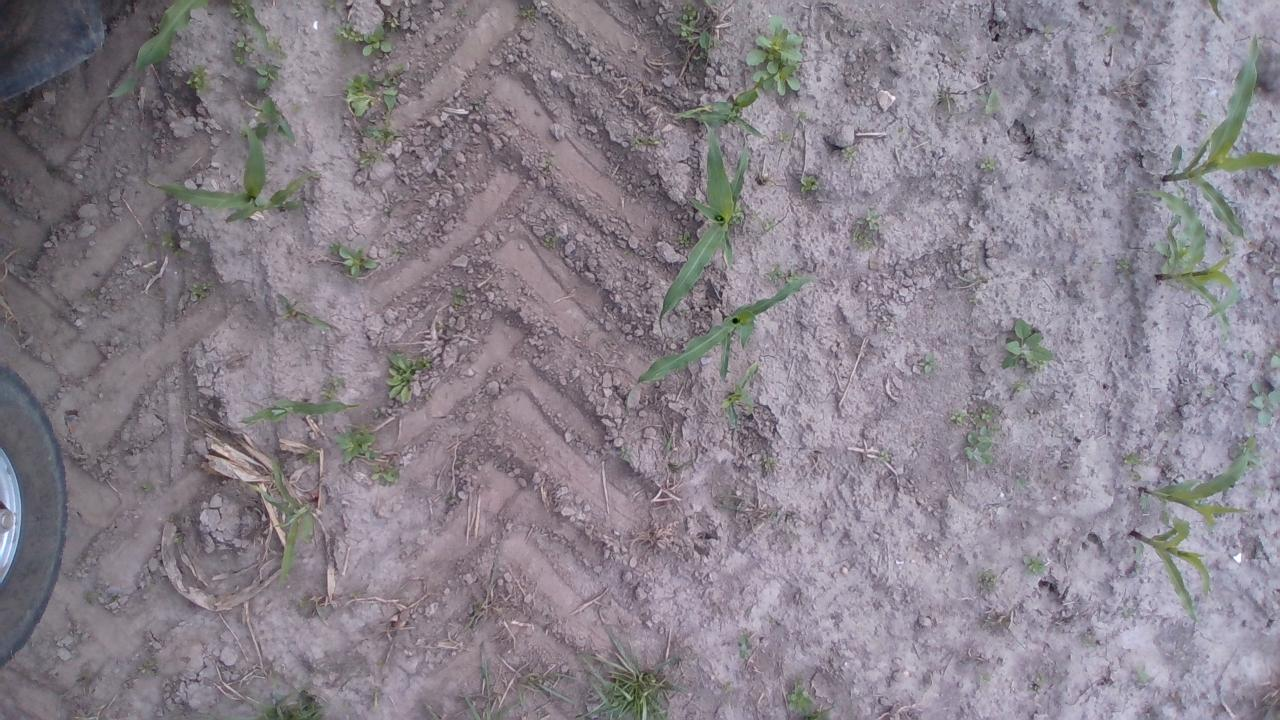Maize: (1160, 36, 1280, 256), (657, 120, 779, 330), (632, 274, 822, 391), (151, 126, 324, 224), (1136, 178, 1244, 330), (105, 0, 218, 100), (1134, 442, 1250, 536), (1130, 516, 1222, 622), (255, 459, 317, 588), (679, 89, 767, 144), (236, 396, 356, 427)
Weeds: (748, 19, 804, 101), (338, 65, 400, 124), (1001, 314, 1052, 378), (382, 350, 436, 410), (783, 680, 836, 718), (960, 426, 999, 472), (848, 204, 888, 248), (340, 25, 395, 57), (338, 424, 380, 464), (332, 246, 379, 276), (623, 132, 674, 155), (360, 128, 405, 154), (314, 374, 356, 401), (696, 32, 722, 75), (976, 86, 1008, 120), (160, 229, 190, 261), (1133, 662, 1160, 696), (180, 66, 208, 98), (730, 630, 756, 664), (1024, 548, 1052, 579), (452, 286, 480, 316), (232, 37, 258, 68), (354, 152, 389, 174), (258, 68, 290, 92), (368, 468, 402, 489), (182, 280, 214, 302), (798, 172, 825, 198), (677, 5, 698, 38), (230, 5, 260, 28), (540, 153, 566, 179), (136, 655, 163, 680), (974, 403, 1002, 426), (980, 564, 999, 596), (1098, 21, 1128, 40), (916, 352, 938, 376), (796, 106, 816, 132), (540, 232, 566, 252), (945, 408, 967, 431), (614, 446, 638, 467), (838, 144, 864, 163), (766, 263, 785, 289), (774, 130, 794, 154), (728, 206, 752, 226), (978, 152, 998, 176), (762, 214, 781, 236), (520, 7, 542, 25), (469, 96, 488, 116), (761, 454, 777, 477), (140, 480, 155, 498), (450, 8, 470, 20)
